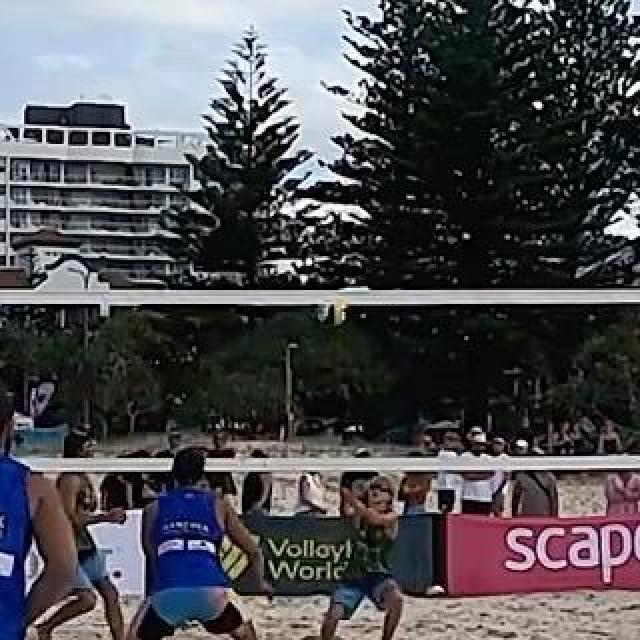volleyball: (316, 298, 346, 326)
